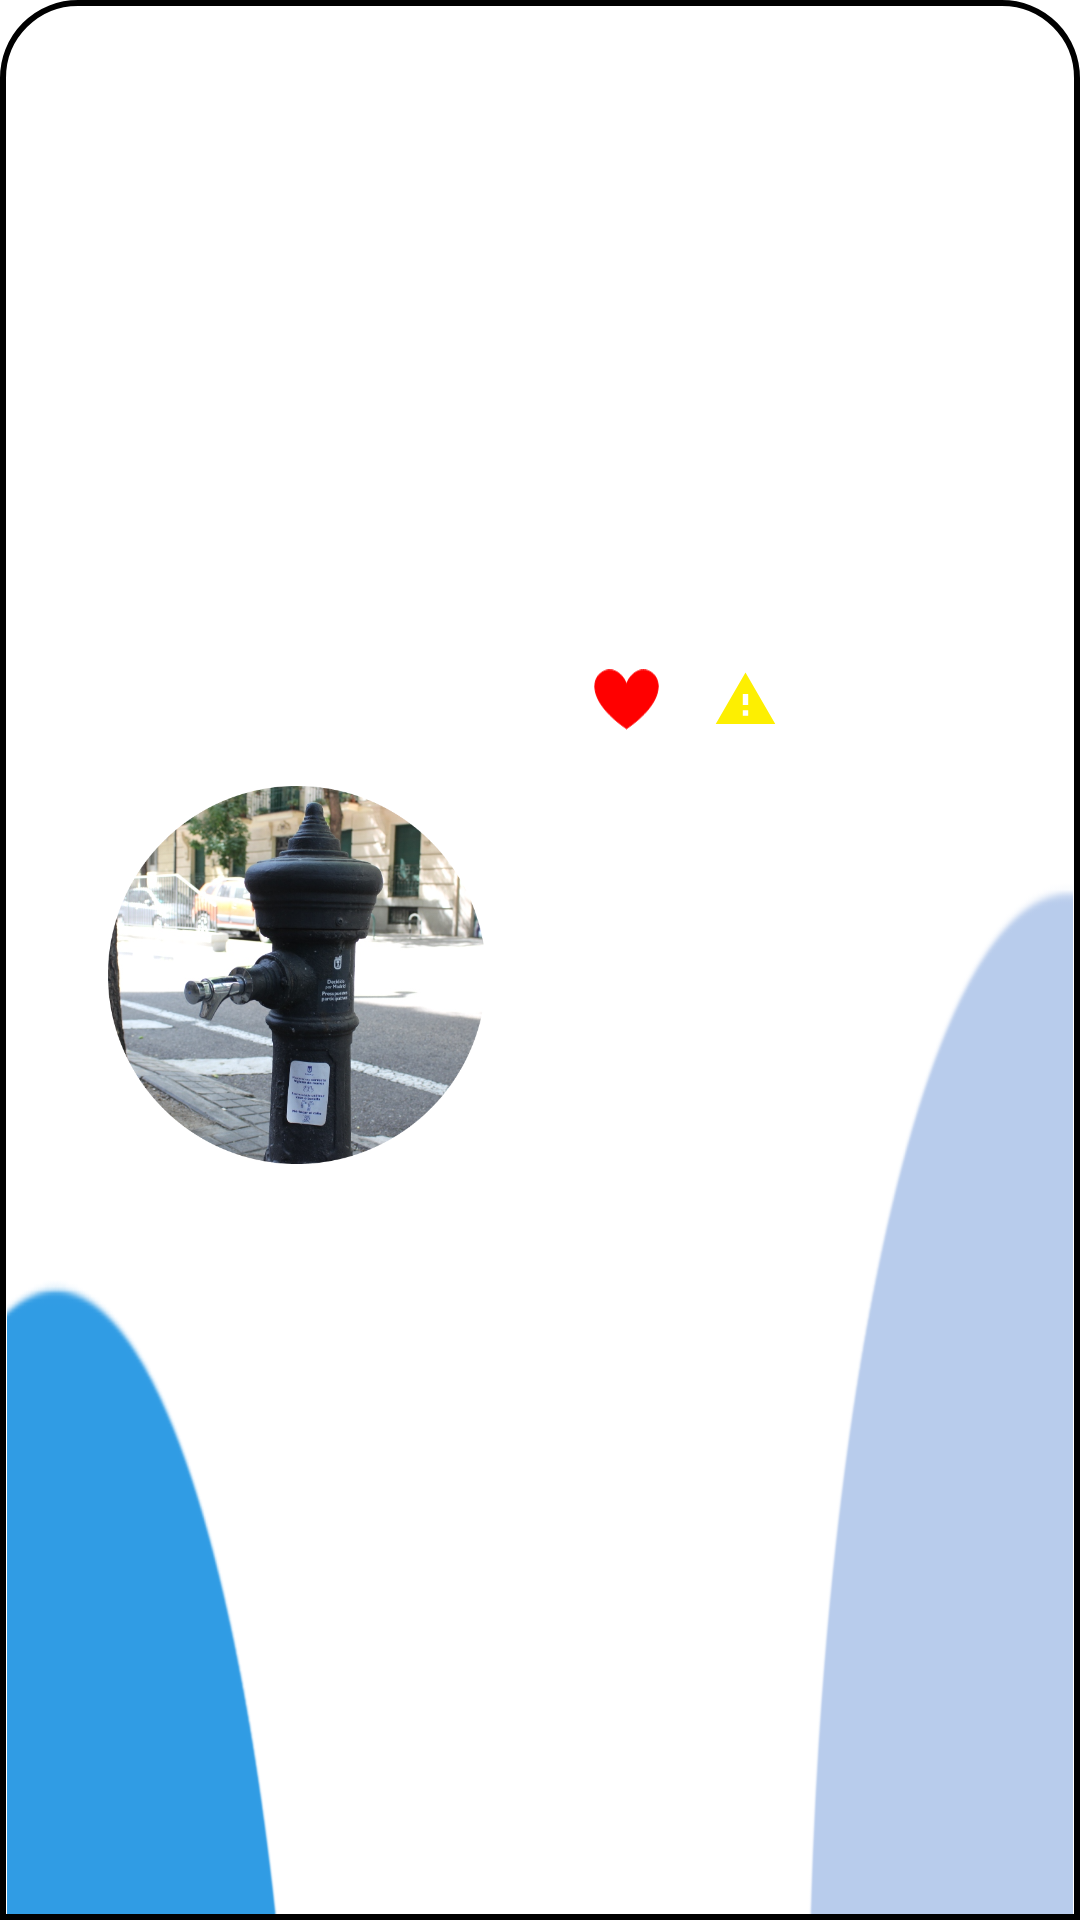

Locate icon controls on the screen. Image size 1080×1920, boxes as (x1, y1, x2, y2).
corazon: (594, 669, 659, 730)
warning: (716, 672, 775, 724)
